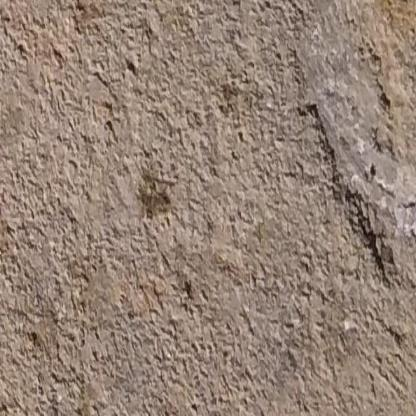Cracks: (296, 102, 393, 292)
